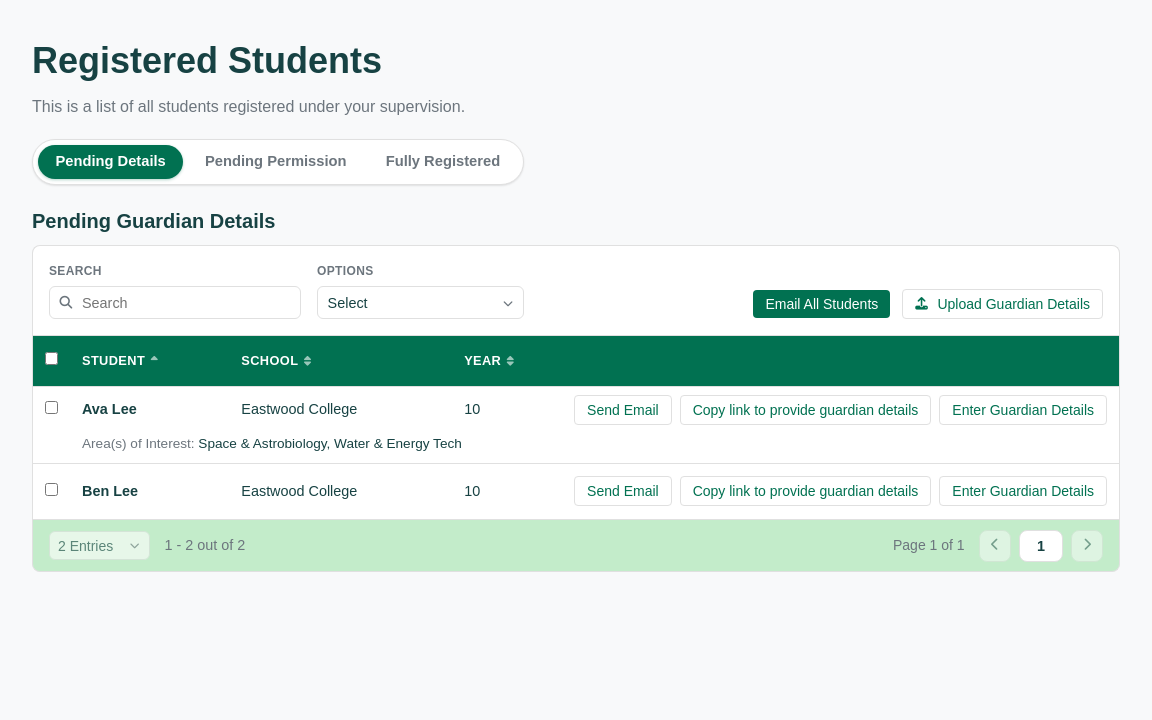
Test: SupervisorStudentsPage › emails › asks before emailing one student, then sends and reports
Click the 1st button "Send Email" at [623, 410], box x1=574 y1=395 x2=672 y2=425
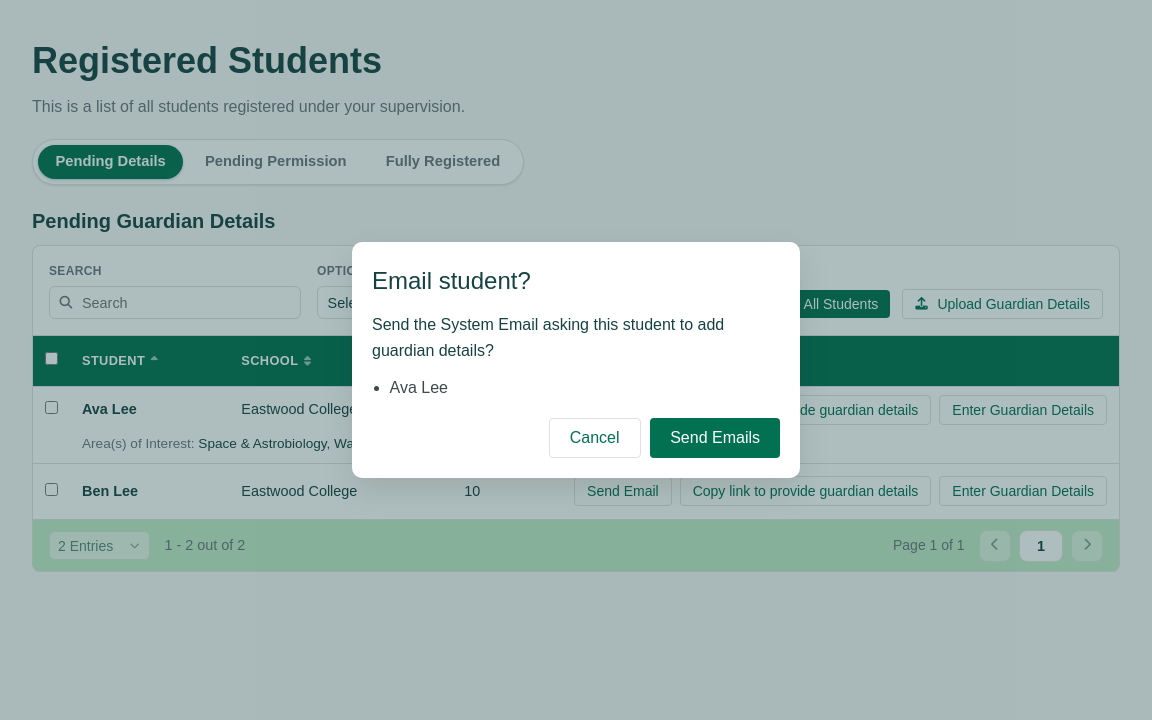
Expected: the heading "Email student?" is shown, x1=372 y1=267 x2=531 y2=294
Expected: the dialog shows "asking this student to add guardian details", x1=372 y1=316 x2=724 y2=359
Expected: the list items read "Ava Lee", in this order, x1=390 y1=379 x2=448 y2=396
Click the button "Send Emails" at [715, 438], box x1=650 y1=418 x2=780 y2=458
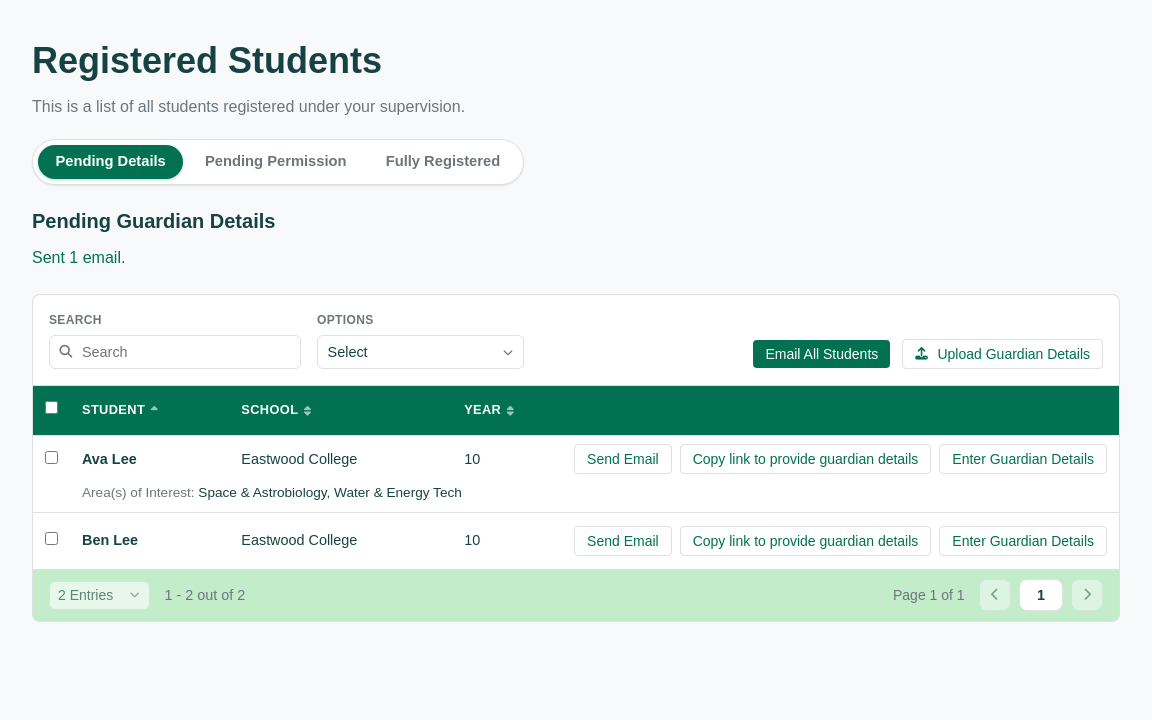
Expected: the text with class "supervisor-notice" reads "Sent 1 email.", x1=32 y1=249 x2=125 y2=266
